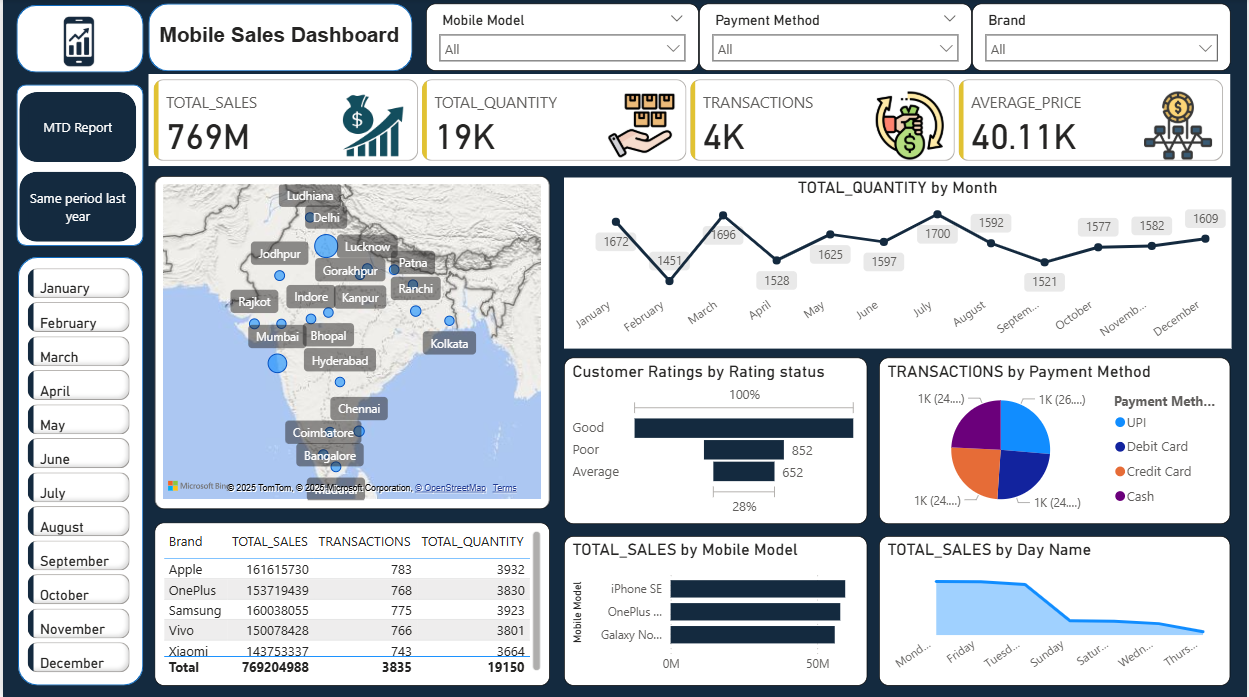

Layout of this report page (visuals, bound fields, positions):
{"tool":"powerbi","page":{"name":"Dashboard","canvas":[1280,720],"ordinal":0},"visuals":[{"type":"shape","box":[13.6,6.8,130.5,69.5],"z":0},{"type":"image","box":[19.6,0,116.1,96.4],"z":1000},{"type":"shape","box":[13.6,88.1,130.5,166.1],"z":2000},{"type":"shape","box":[15.3,266.1,128.8,440.7],"z":3000},{"type":"advancedSlicerVisual","fields":{"Values":["Custom_calendar.Date.Variation.Date Hierarchy.Month"]},"box":[20.3,271.2,115.3,435.6],"z":4000},{"type":"cardVisual","fields":{"Data":["Mobile sales.TOTAL_SALES","Mobile sales.TOTAL_QUANTITY","Mobile sales.TRANSACTIONS","Mobile sales.AVERAGE_PRICE"]},"box":[150,76.8,1112.5,94.6],"z":5000},{"type":"slicer","fields":{"Values":["Mobile sales.Mobile Model"]},"box":[435.7,5.4,280.4,69.6],"z":6000},{"type":"slicer","fields":{"Values":["Mobile sales.Payment Method"]},"box":[716.1,5.4,280.4,69.6],"z":7000},{"type":"slicer","fields":{"Values":["Mobile sales.Brand"]},"box":[996.4,5.4,266.1,69.6],"z":8000},{"type":"shape","box":[150,5.4,271.4,69.6],"z":9000},{"type":"textbox","box":[155.4,19.6,262.5,42.9],"z":10000},{"type":"map","fields":{"Category":["Customer.City"],"Size":["Mobile sales.TOTAL_SALES"]},"box":[155.9,181.4,406.8,342.4],"z":11000},{"type":"lineChart","fields":{"Category":["Custom_calendar.Date.Variation.Date Hierarchy.Month"],"Y":["Mobile sales.TOTAL_QUANTITY"]},"box":[576.3,183.1,686.4,176.3],"z":12000},{"type":"funnel","title":"Customer Ratings by Rating status","fields":{"Y":["CountNonNull(Mobile sales.Customer Ratings)"],"Category":["Mobile sales.Rating status"]},"box":[576.3,369.5,311.9,171.2],"z":13000},{"type":"pieChart","fields":{"Category":["Mobile sales.Payment Method"],"Y":["Mobile sales.TRANSACTIONS"]},"box":[901.7,369.5,361,171.2],"z":14000},{"type":"clusteredBarChart","fields":{"Y":["Mobile sales.TOTAL_SALES"],"Category":["Mobile sales.Mobile Model"]},"box":[576.3,552.5,311.9,154.2],"z":15000},{"type":"areaChart","fields":{"Y":["Mobile sales.TOTAL_SALES"],"Category":["Custom_calendar.Day Name"]},"box":[901.7,552.5,361,154.2],"z":16000},{"type":"tableEx","fields":{"Values":["Mobile sales.Brand","Mobile sales.TOTAL_SALES","Mobile sales.TRANSACTIONS","Mobile sales.TOTAL_QUANTITY"]},"box":[155.9,539,406.8,167.8],"z":17000},{"type":"pageNavigator","box":[17,96.2,120.8,154.7],"z":18000}]}

Visuals, with their boxes in screenshot pixels (x1, y1, x2, y2), scaled from the page's 1280x720 canvas onto the 1249x697 screenshot:
shape: <bbox>13, 7, 141, 74</bbox>
image: <bbox>19, 0, 132, 93</bbox>
shape: <bbox>13, 85, 141, 246</bbox>
shape: <bbox>15, 258, 141, 684</bbox>
advancedSlicerVisual - Custom_calendar.Date.Variation.Date Hierarchy.Month: <bbox>20, 263, 132, 684</bbox>
cardVisual - Mobile sales.TOTAL_SALES x Mobile sales.TOTAL_QUANTITY: <bbox>146, 74, 1232, 166</bbox>
slicer - Mobile sales.Mobile Model: <bbox>425, 5, 699, 73</bbox>
slicer - Mobile sales.Payment Method: <bbox>699, 5, 972, 73</bbox>
slicer - Mobile sales.Brand: <bbox>972, 5, 1232, 73</bbox>
shape: <bbox>146, 5, 411, 73</bbox>
textbox: <bbox>152, 19, 408, 61</bbox>
map - Customer.City x Mobile sales.TOTAL_SALES: <bbox>152, 176, 549, 507</bbox>
lineChart - Custom_calendar.Date.Variation.Date Hierarchy.Month x Mobile sales.TOTAL_QUANTITY: <bbox>562, 177, 1232, 348</bbox>
"Customer Ratings by Rating status" funnel: <bbox>562, 358, 867, 523</bbox>
pieChart - Mobile sales.Payment Method x Mobile sales.TRANSACTIONS: <bbox>880, 358, 1232, 523</bbox>
clusteredBarChart - Mobile sales.TOTAL_SALES x Mobile sales.Mobile Model: <bbox>562, 535, 867, 684</bbox>
areaChart - Mobile sales.TOTAL_SALES x Custom_calendar.Day Name: <bbox>880, 535, 1232, 684</bbox>
tableEx - Mobile sales.Brand x Mobile sales.TOTAL_SALES: <bbox>152, 522, 549, 684</bbox>
pageNavigator: <bbox>17, 93, 134, 243</bbox>
